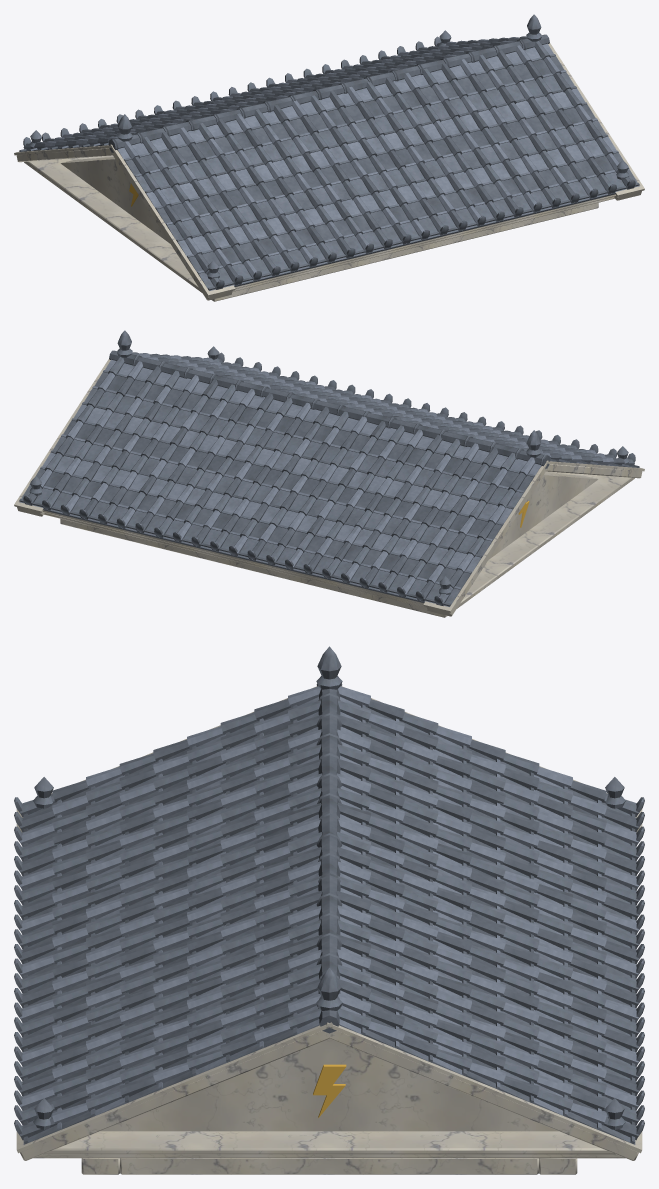
Rendered from home_villa-roof_t2_slate.glb.
The picture shows the model from 3 angles, top to bottom: view 1: azimuth 30°, elevation 25°; view 2: azimuth 150°, elevation 25°; view 3: azimuth 270°, elevation 25°; orthographic projection. The views are drawn at different scales.
Visible parts, largest first — view 1: tile0, tile1, tile2, marble; view 2: tile0, tile1, tile2, marble; view 3: tile0, tile1, tile2, marble, gold.
Part boxes in pixels (x1=…): tile0: x1=21, y1=14, x2=639, y2=290; tile1: x1=19, y1=34, x2=639, y2=290; tile2: x1=30, y1=37, x2=629, y2=280; marble: x1=14, y1=43, x2=644, y2=301; tile0: x1=19, y1=330, x2=637, y2=606; tile1: x1=19, y1=350, x2=639, y2=606; tile2: x1=29, y1=353, x2=628, y2=596; marble: x1=14, y1=359, x2=644, y2=617; tile0: x1=14, y1=646, x2=644, y2=1144; tile1: x1=20, y1=676, x2=638, y2=1143; tile2: x1=20, y1=686, x2=638, y2=1129; marble: x1=16, y1=686, x2=642, y2=1174; gold: x1=313, y1=1064, x2=346, y2=1117.
Bounding box in the file's own units: 7.36 × 2.17 × 5.73.
5 materials, 4 textured.
